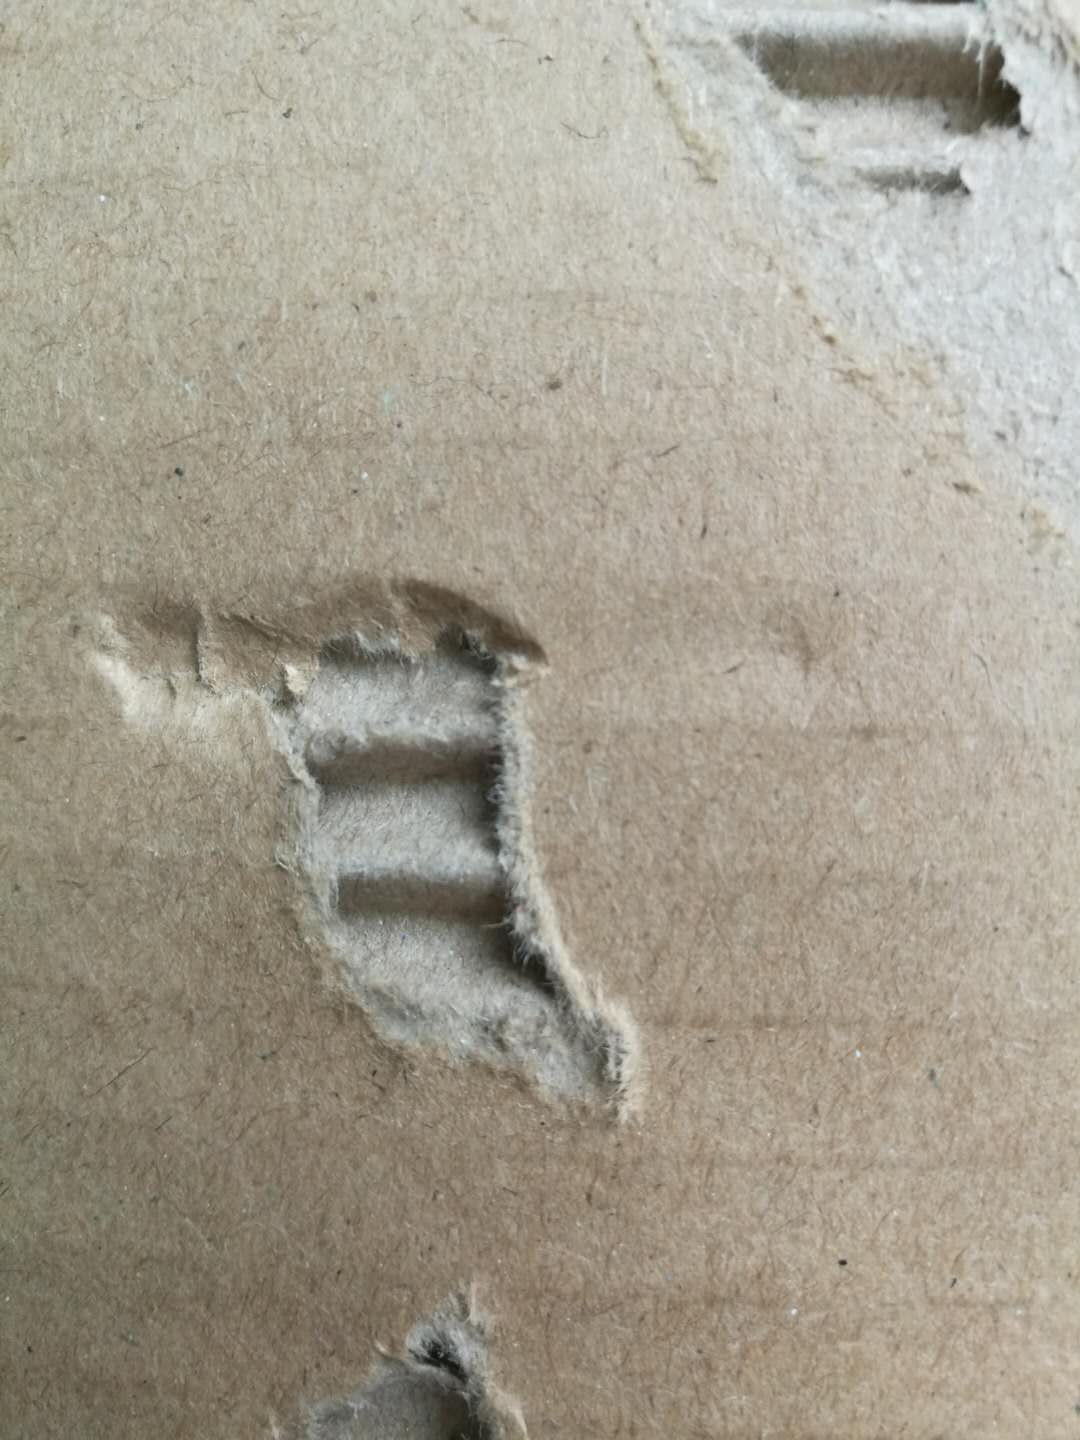defect: (47, 513, 699, 1172), (579, 1, 1080, 615), (237, 1259, 534, 1440)
